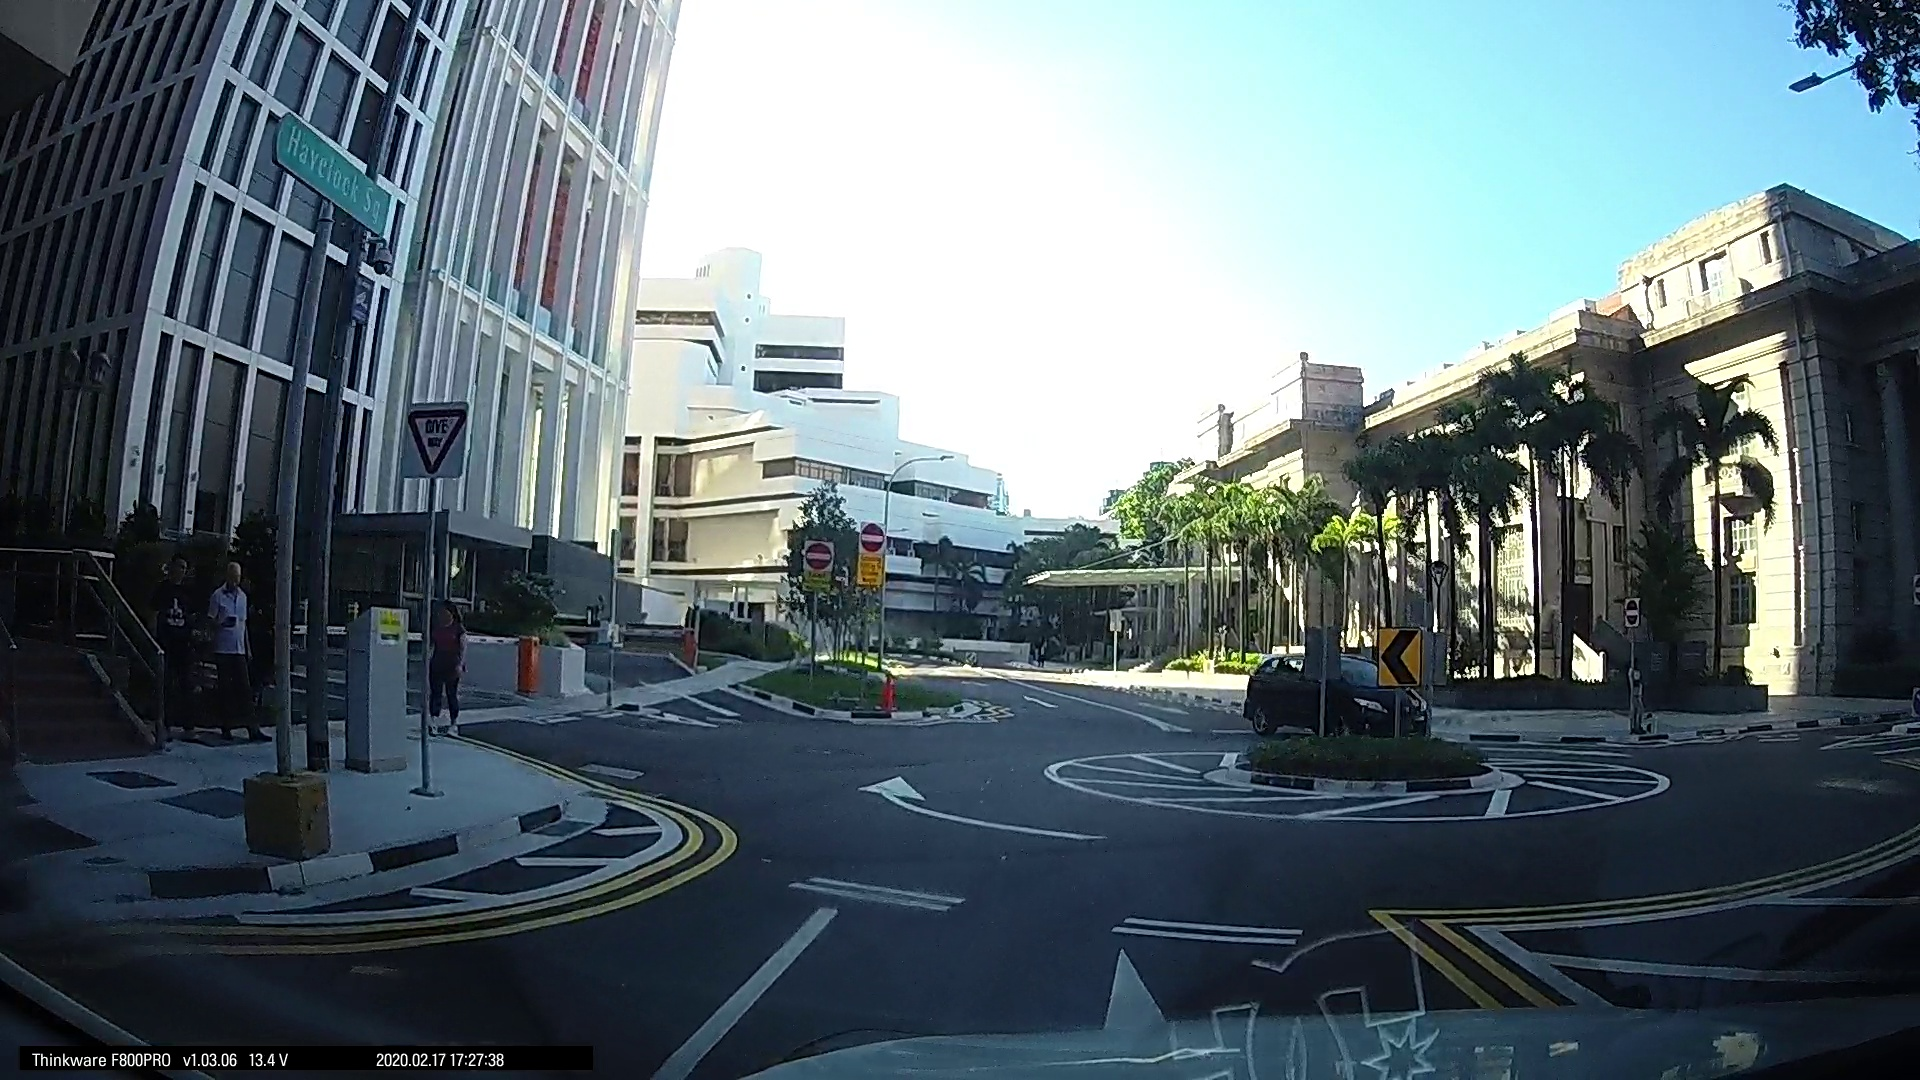Light Vehicle: (1232, 644, 1432, 746)
